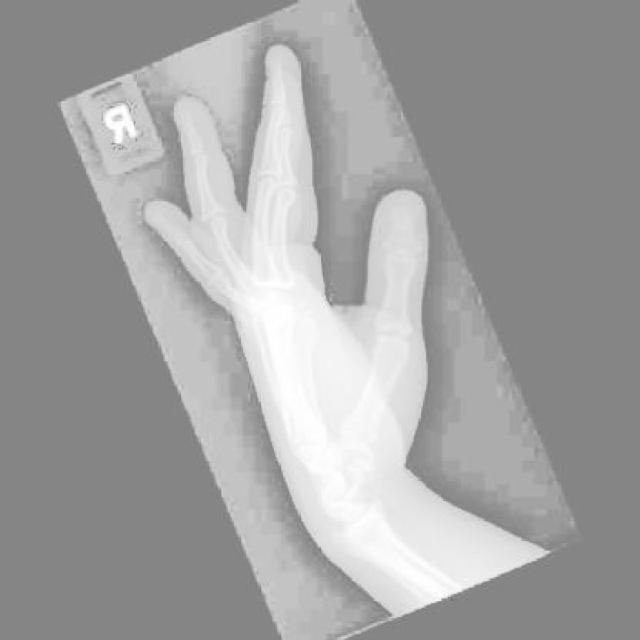Fracture: (202, 194, 231, 219)
